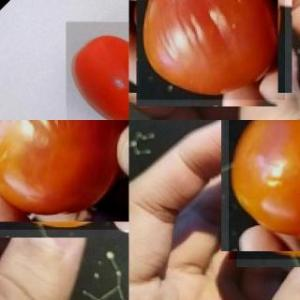tomato: (228, 120, 300, 260), (67, 23, 129, 120)
